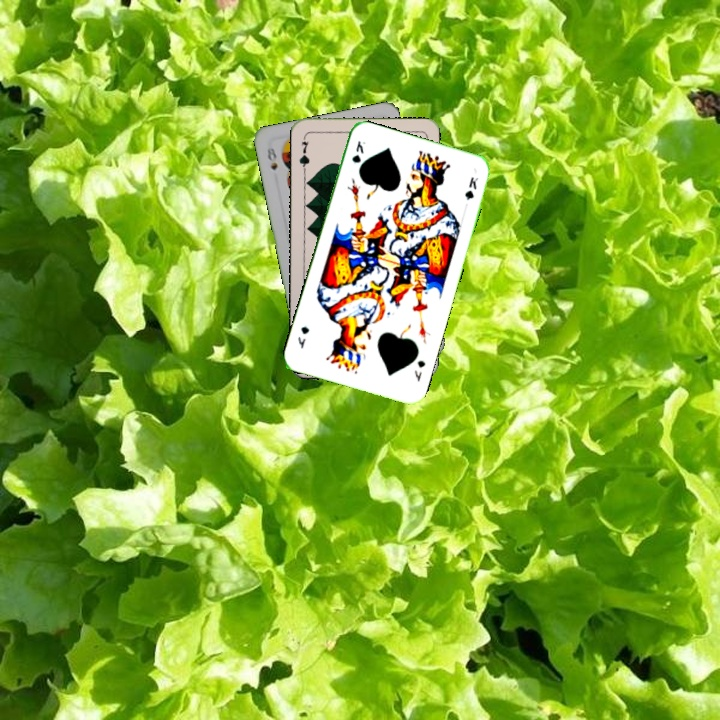G7: (295, 133, 312, 173)
GK: (348, 136, 367, 166), (410, 356, 428, 384)
S8: (263, 144, 280, 173)
